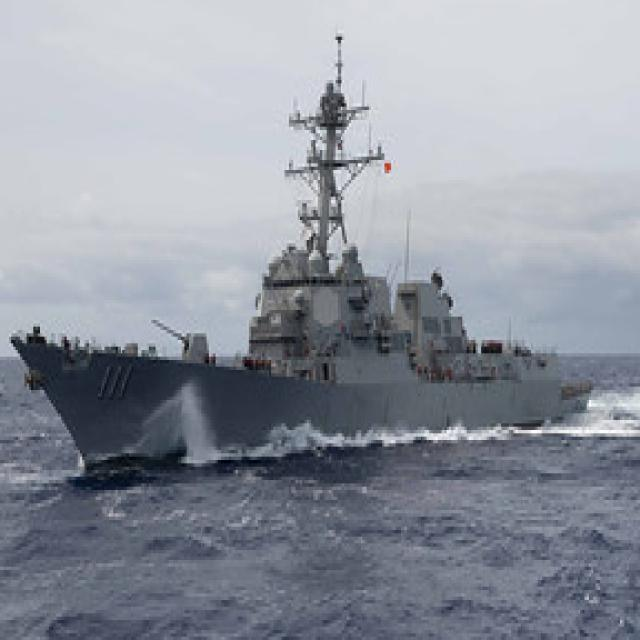navalvessels: (0, 53, 613, 499)
